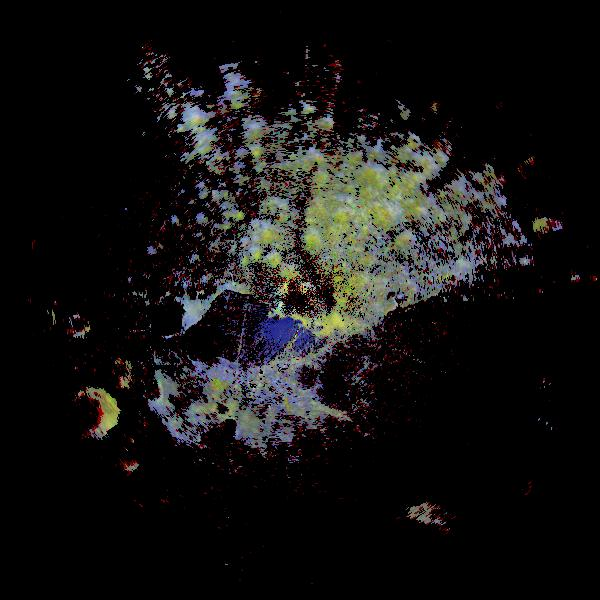roost: (35, 359, 140, 464)
